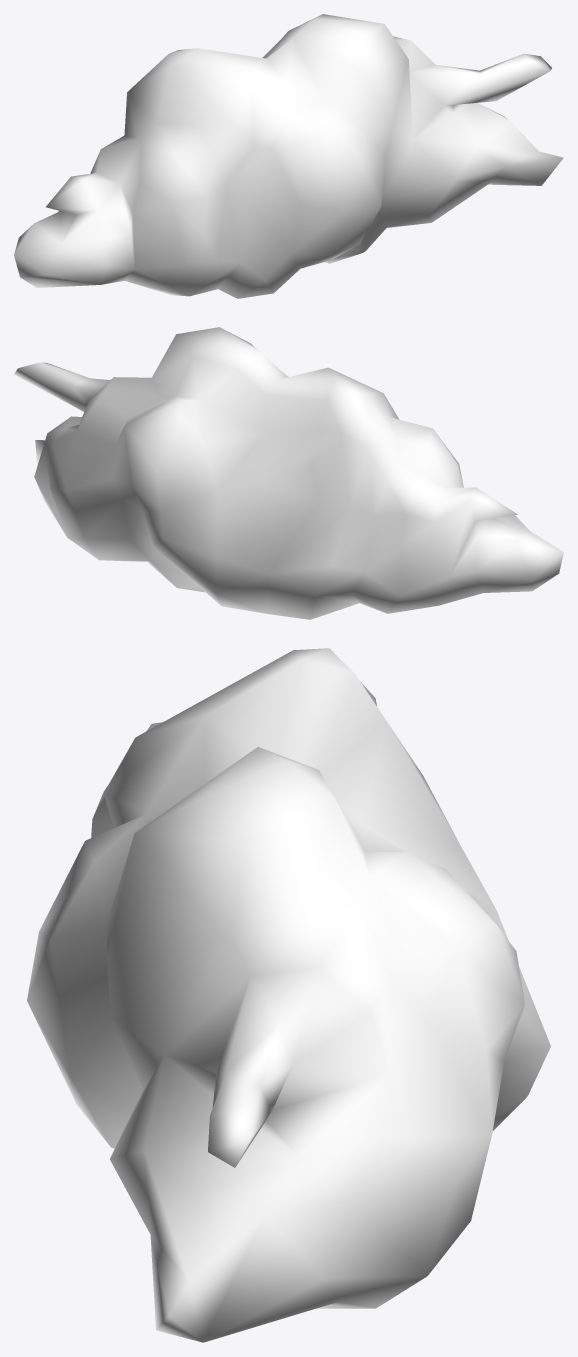
File: Cloud1.fbx
3 views of the same model, one above another, from view 1: azimuth 30°, elevation 25°; view 2: azimuth 150°, elevation 25°; view 3: azimuth 270°, elevation 25° (orthographic). The views are drawn at different scales.
Parts seen in each view (by area): view 1: Cloud1; view 2: Cloud1; view 3: Cloud1.
Part boxes in pixels (box(x1,y1,x2,y2)): Cloud1: box(14, 14, 563, 298); Cloud1: box(14, 327, 563, 619); Cloud1: box(27, 648, 550, 1342).
Bounding box in the file's own units: 871 × 377 × 364.
Materials: 1 (1 with a texture image).
